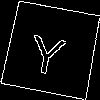Y: (26, 24, 70, 77)
